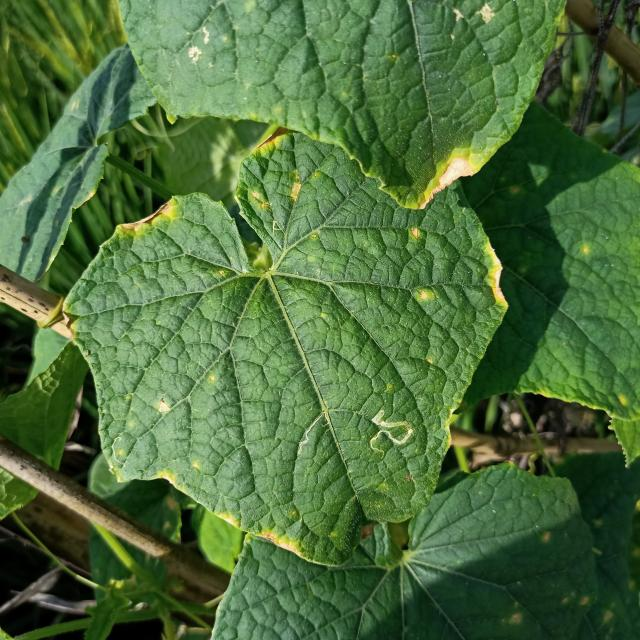disease_cucumber: (250, 129, 308, 218), (155, 456, 204, 488), (410, 285, 437, 305), (157, 398, 173, 414), (407, 226, 422, 243)
